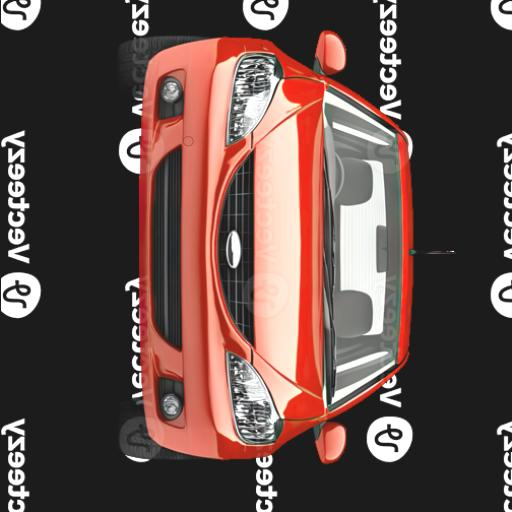hatchback: (120, 33, 412, 463)
